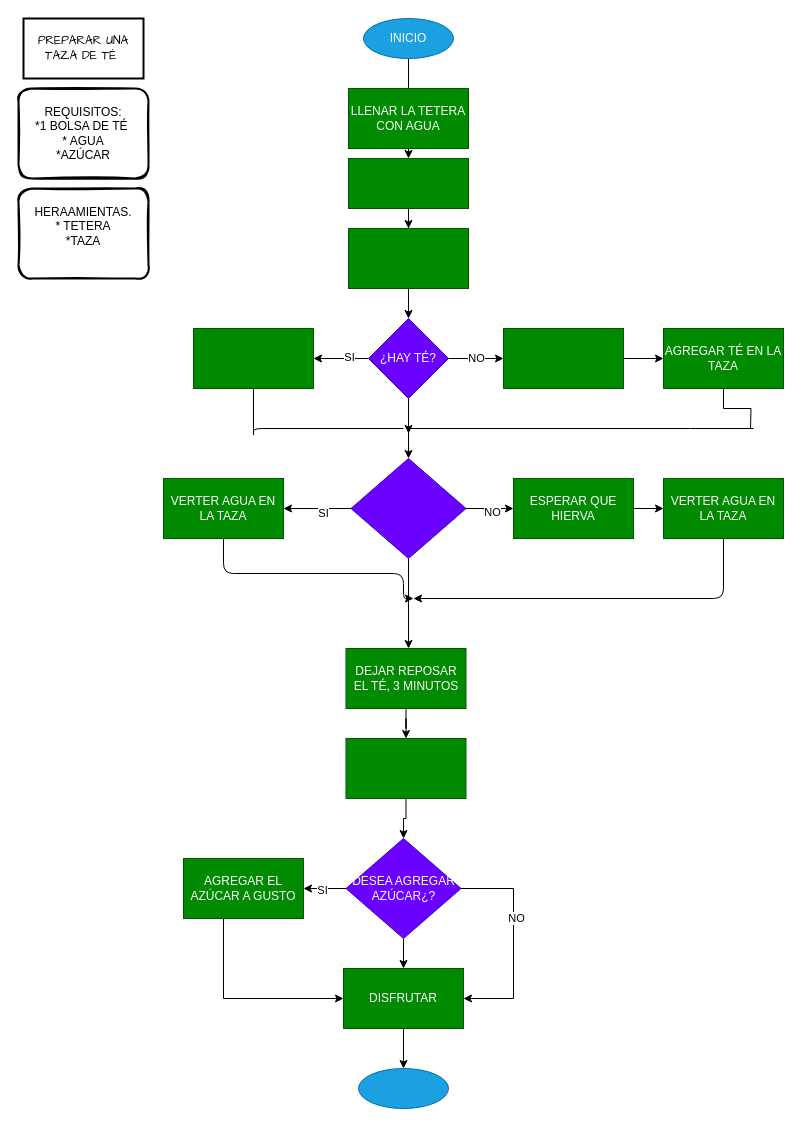
Some shapes in this 801 by 1126 pixel diagram are drawn without their labels. The shapes that lost their labels are listed below. From the top down, each one's centre as x and y in pixels, then its label:
pixel 408 183: COLOCAR LA TETERA EN LA ESTUFA
pixel 408 258: ENCENDER LA ESTUFA Y HERVIR EL AGUA
pixel 253 358: COLOCAR BOLSA DE TÉ EN LA TAZA
pixel 563 358: COMPRAR TÉ
pixel 408 508: EL AGUA ESTA HERVIDA ¿?
pixel 405 768: RETIRAR LA BOLSA DE TÉ
pixel 403 1088: FIN
